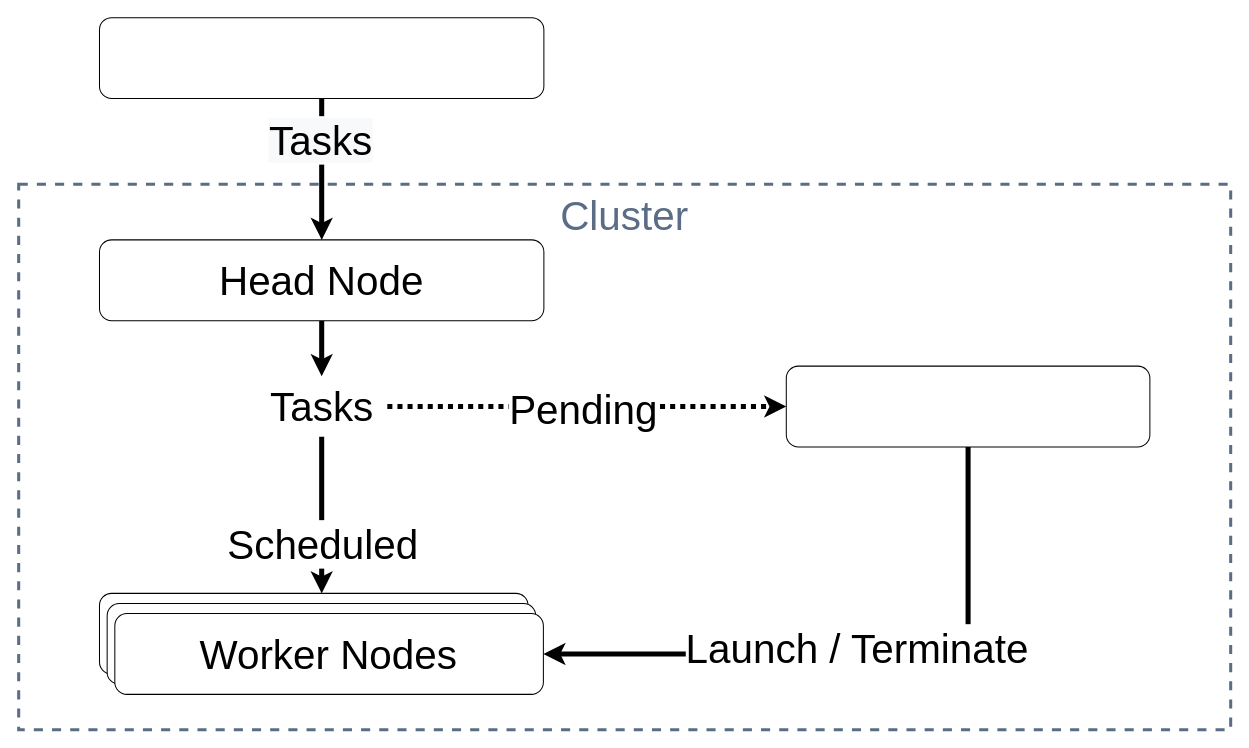
Some shapes in this 1249 by 748 pixel diagram are drawn without their labels. Each missing label, with the box of its shape:
Autoscaler: (785, 365, 1150, 447)
Clients: (98, 17, 544, 98)
